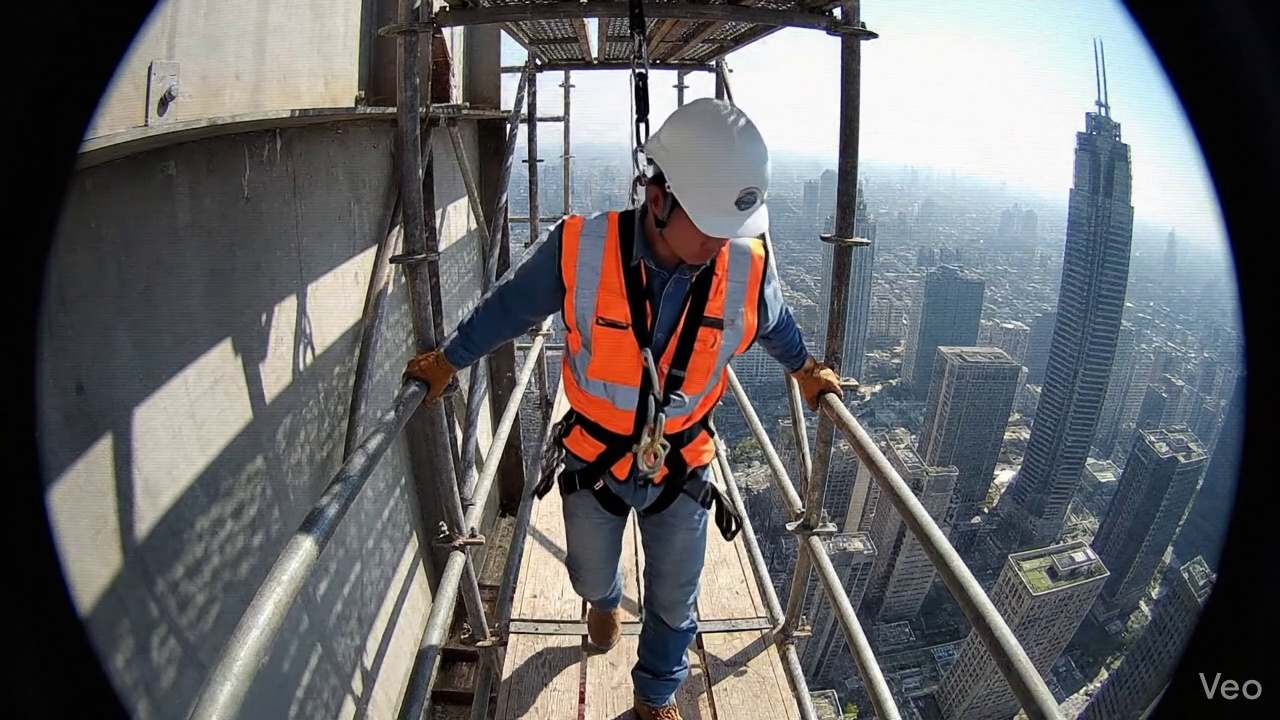person: (404, 98, 840, 719)
